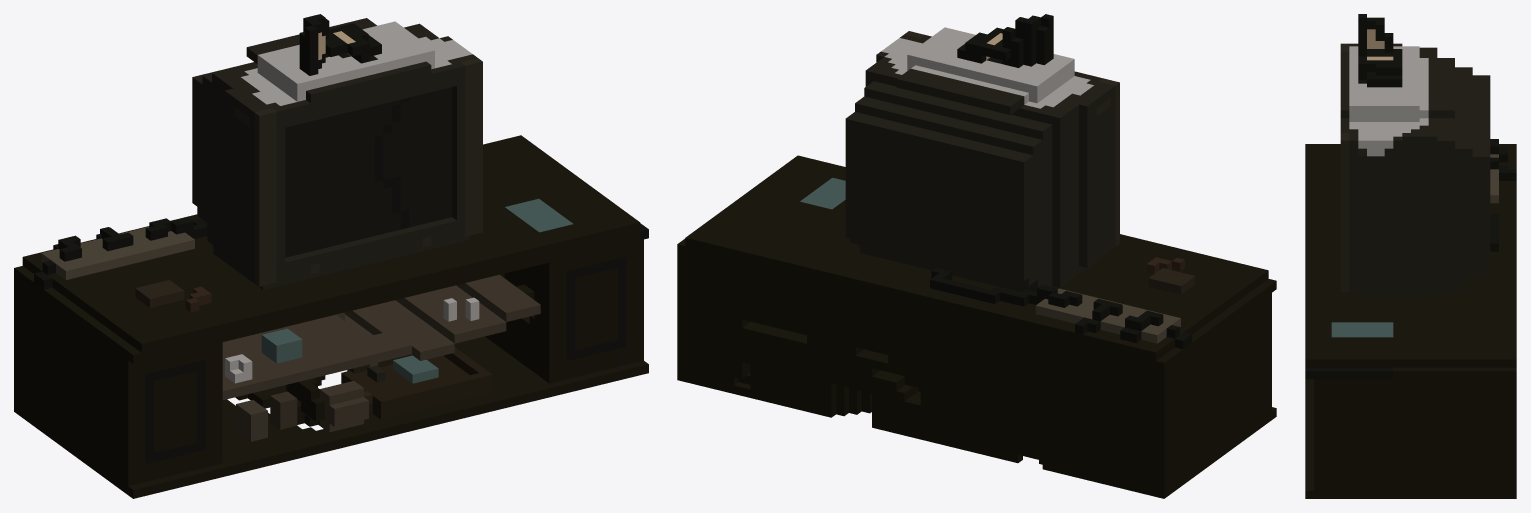
Rendered from tv1.vox.obj.
3 renders of one model, left to right at view 1: azimuth 30°, elevation 25°; view 2: azimuth 150°, elevation 25°; view 3: azimuth 270°, elevation 25°, orthographic. The views are drawn at different scales.
Bounding box in the file's own units: 6 × 4.4 × 2.4.
Materials: 1 (1 with a texture image).
